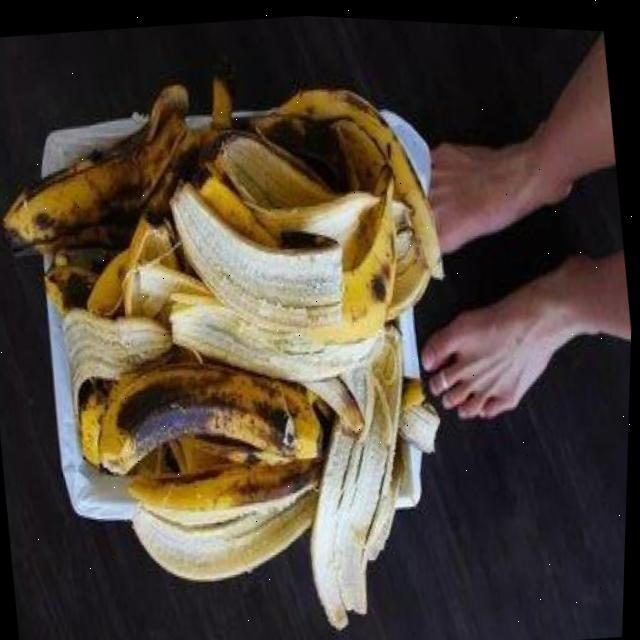Wet: (0, 37, 496, 640)
